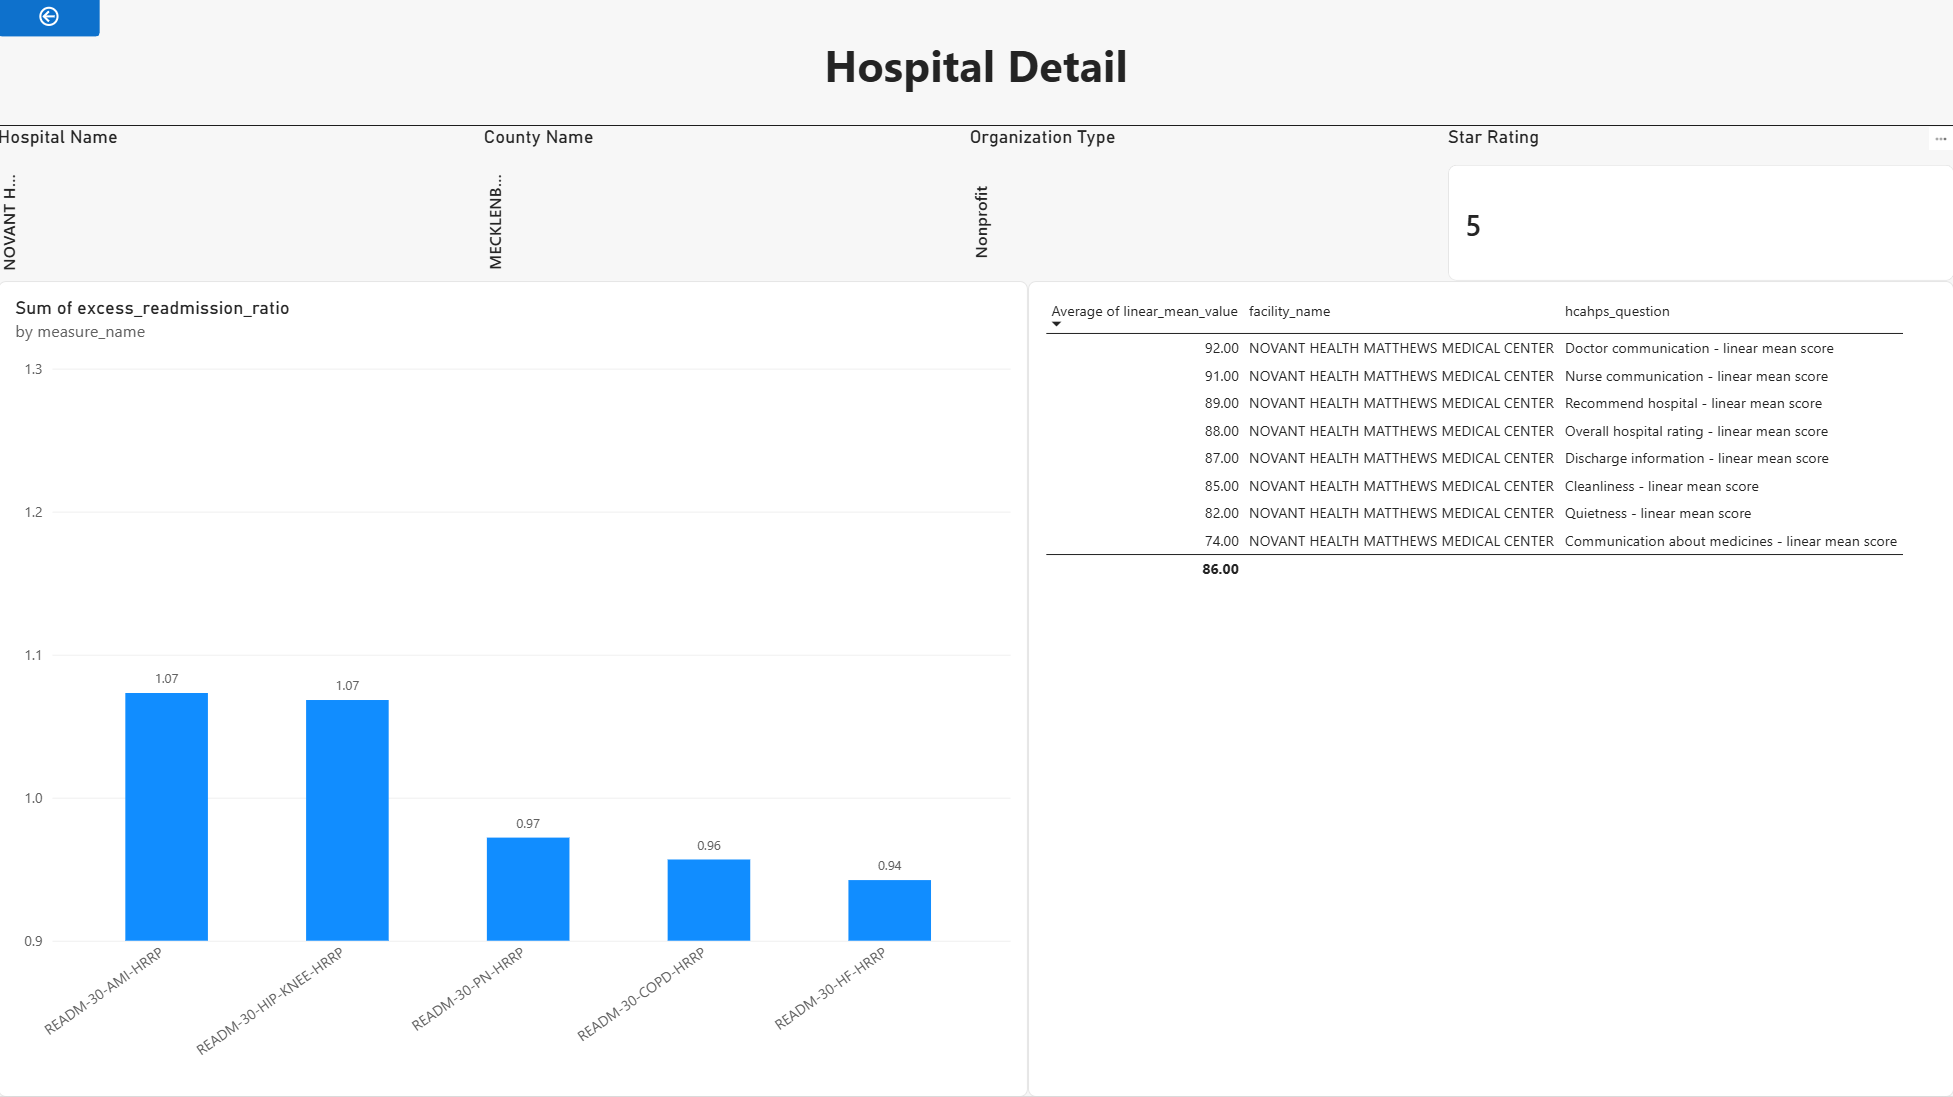

This screenshot's page, from the dashboard's own definition file:
{"tool":"powerbi","page":{"name":"Drill-through per Hospital","canvas":[1920,1080],"ordinal":2},"visuals":[{"type":"cardVisual","title":"Hospital Name","fields":{"Rows":["nc_hospital_readmission_summary.facility_name"]},"box":[0,128,477,152],"z":0},{"type":"cardVisual","title":"County Name","fields":{"Rows":["nc_hospital_readmission_summary.county_parish"]},"box":[477,128,477,152],"z":1000},{"type":"cardVisual","title":"Organization Type","fields":{"Rows":["nc_hospital_readmission_summary.ownership_category"]},"box":[954,128,470,152],"z":2000},{"type":"cardVisual","title":"Star Rating","fields":{"Data":["Sum(nc_hospital_readmission_summary.hospital_overall_rating)"]},"box":[1423,128,497,152],"z":3000},{"type":"columnChart","fields":{"Category":["clean_rrp.measure_name"],"Y":["Sum(clean_rrp.excess_readmission_ratio)"]},"box":[0,279.9,1011.5,800.6],"z":4000},{"type":"tableEx","fields":{"Values":["Avg(clean_hcahps.linear_mean_value)","nc_hospital_readmission_summary.facility_name","clean_hcahps.hcahps_question"]},"box":[1011.5,279.9,908.5,800.6],"z":5000},{"type":"actionButton","box":[0,0,100,40],"z":6000},{"type":"textbox","box":[0,0,1920,128],"z":6001}]}

Visuals, with their boxes in screenshot pixels (x1, y1, x2, y2), scaled from the page's 1920x1080 canvas onto the 1953x1097 screenshot:
"Hospital Name" cardVisual: (left=0, top=130, right=485, bottom=284)
"County Name" cardVisual: (left=485, top=130, right=970, bottom=284)
"Organization Type" cardVisual: (left=970, top=130, right=1448, bottom=284)
"Star Rating" cardVisual: (left=1447, top=130, right=1952, bottom=284)
columnChart - clean_rrp.measure_name x Sum(clean_rrp.excess_readmission_ratio): (left=0, top=284, right=1029, bottom=1096)
tableEx - Avg(clean_hcahps.linear_mean_value) x nc_hospital_readmission_summary.facility_name: (left=1029, top=284, right=1952, bottom=1096)
actionButton: (left=0, top=0, right=102, bottom=41)
textbox: (left=0, top=0, right=1952, bottom=130)
